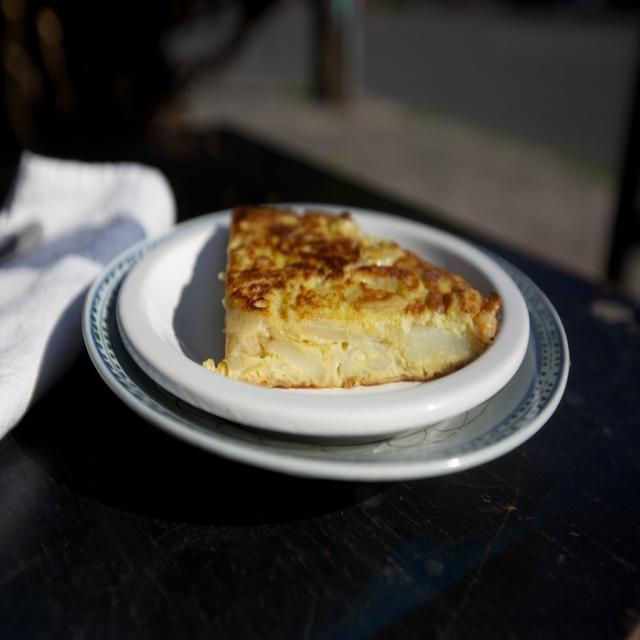non-organic waste: (81, 195, 580, 497)
